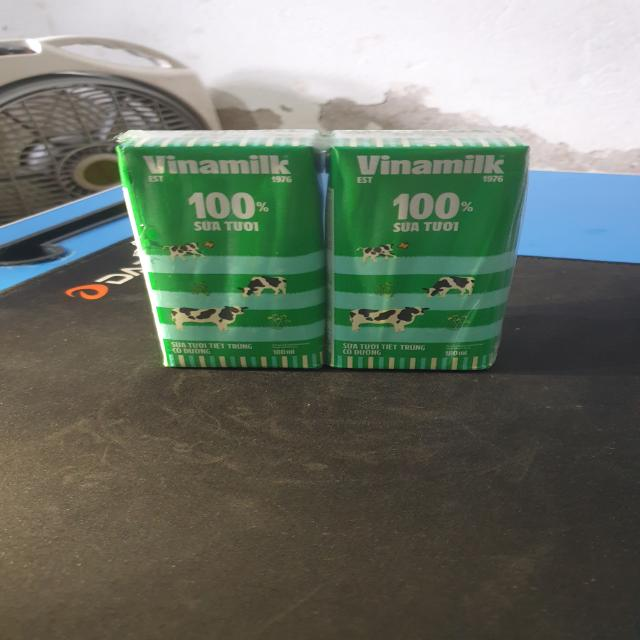Vina: (323, 122, 532, 374), (125, 125, 317, 376)
